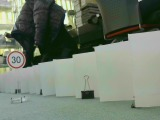speed_30: (6, 50, 26, 69)
